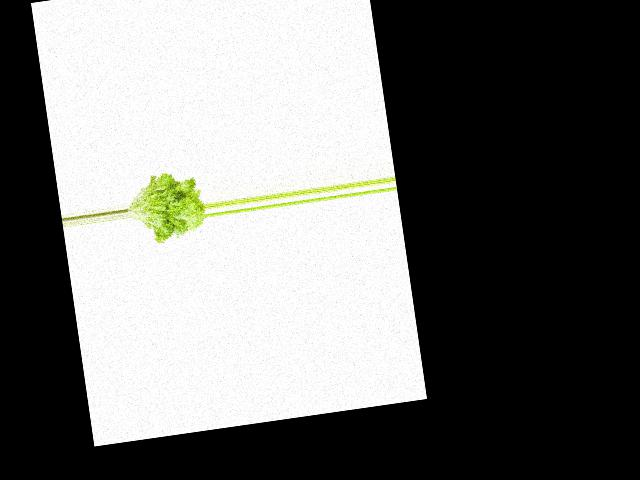lettuce: (121, 164, 208, 247)
